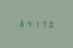four: (25, 19, 31, 27)
one: (32, 19, 38, 28)
seven: (39, 20, 45, 28)
six: (18, 19, 24, 27)
zero: (46, 20, 52, 28)
